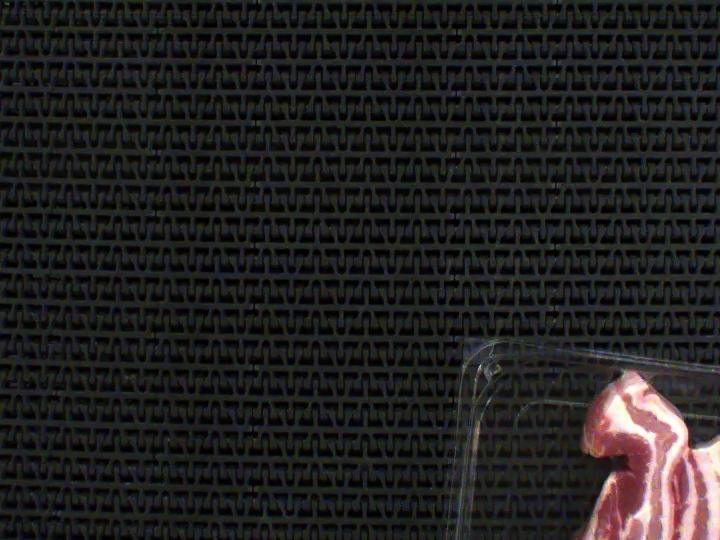packaging-error: (623, 364, 662, 384)
